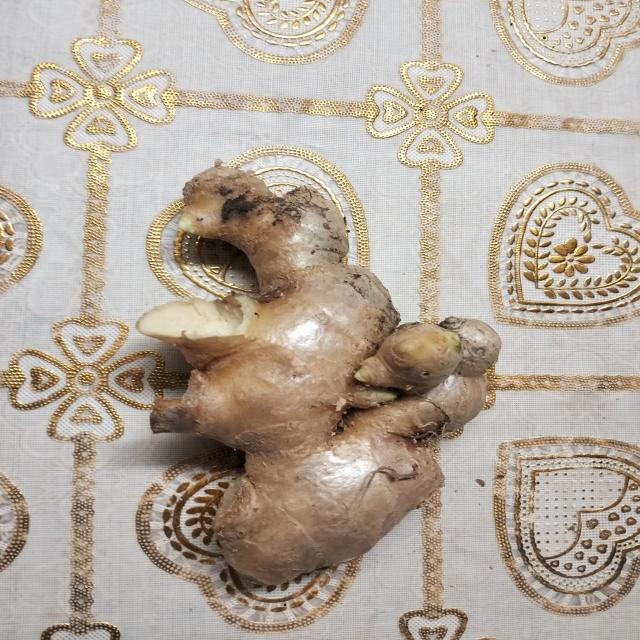ginger: (110, 153, 502, 621)
